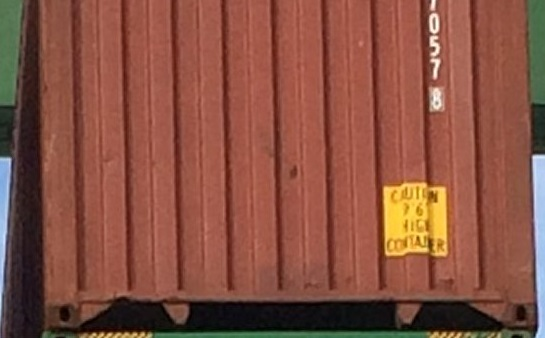container_no_door: (43, 2, 527, 329)
